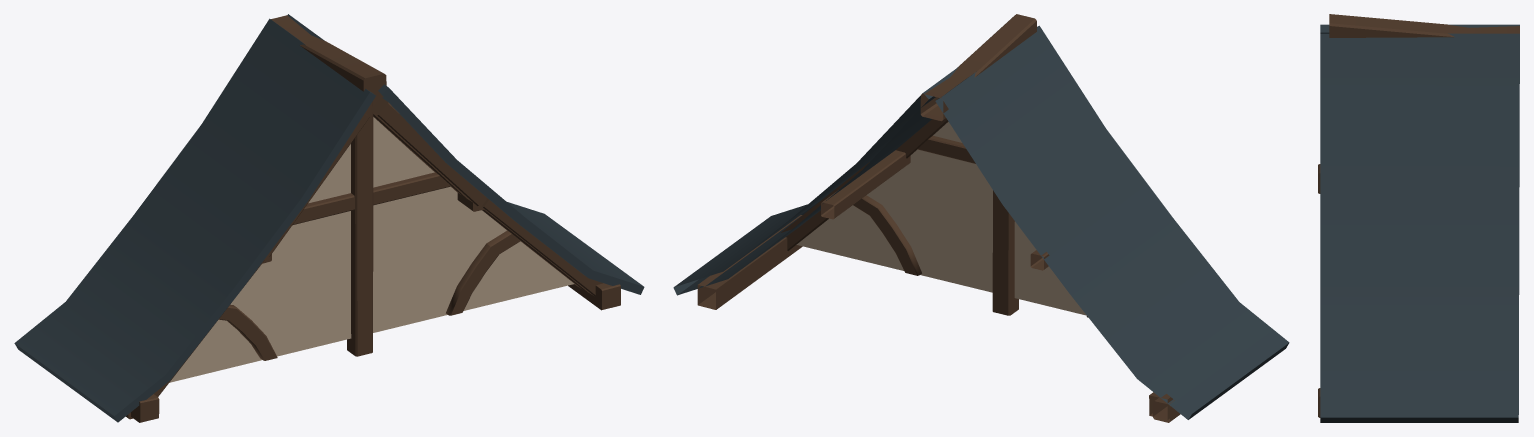
Rendered from Roof2.fbx.
The picture shows the model from 3 angles, left to right: view 1: azimuth 30°, elevation 25°; view 2: azimuth 150°, elevation 25°; view 3: azimuth 270°, elevation 25°; orthographic projection. The views are drawn at different scales.
Visible parts, largest first — view 1: Cube.025; view 2: Cube.025; view 3: Cube.025.
Part boxes in pixels (x1=…): Cube.025: x1=14, y1=14, x2=644, y2=422; Cube.025: x1=673, y1=14, x2=1289, y2=422; Cube.025: x1=1318, y1=14, x2=1519, y2=422.
Bounding box in the file's own units: 7.4 × 3.85 × 2.46.
